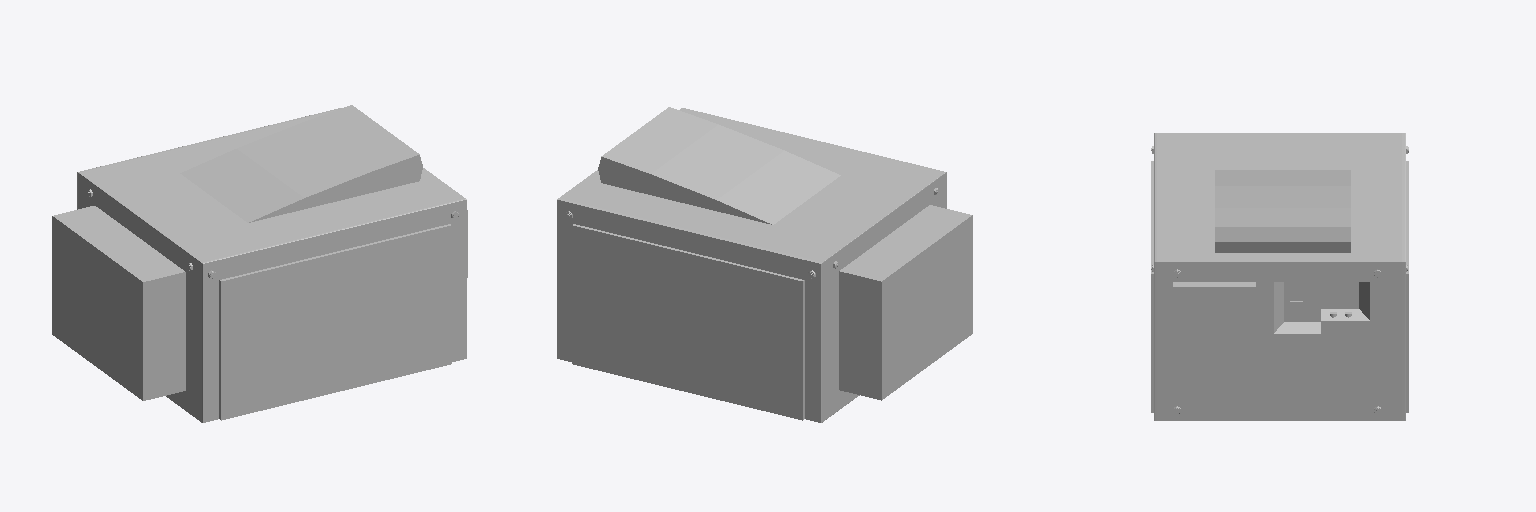
File: Garage Motor.obj
3 renders of one model, left to right at view 1: azimuth 30°, elevation 25°; view 2: azimuth 150°, elevation 25°; view 3: azimuth 270°, elevation 25°, orthographic.
Parts seen in each view (by area): view 1: 0-Cube_Cube.001; view 2: 0-Cube_Cube.001; view 3: 0-Cube_Cube.001.
Boxes of the visible parts, x1,y1,x2,y2 form: 0-Cube_Cube.001: [52, 105, 467, 422]; 0-Cube_Cube.001: [557, 107, 972, 422]; 0-Cube_Cube.001: [1151, 133, 1408, 420].
Bounding box in the file's own units: 0.5772 × 0.3242 × 0.4072.